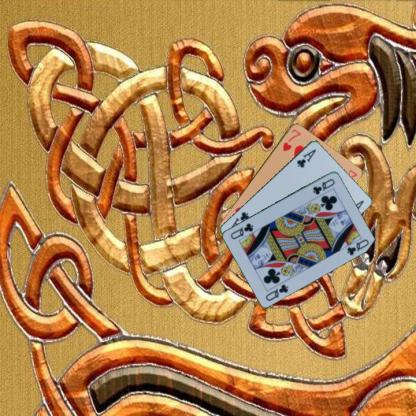7h: (280, 126, 302, 152)
Ac: (294, 146, 317, 169)
Qc: (310, 176, 336, 196), (263, 282, 289, 302)
